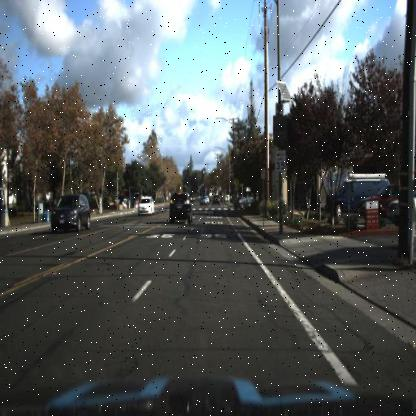car: (322, 168, 387, 219), (161, 182, 196, 230), (358, 181, 400, 220), (51, 195, 91, 233), (166, 190, 191, 224), (136, 195, 158, 216), (211, 192, 223, 209), (232, 196, 242, 210), (196, 192, 206, 205)
truck: (325, 172, 392, 216)
